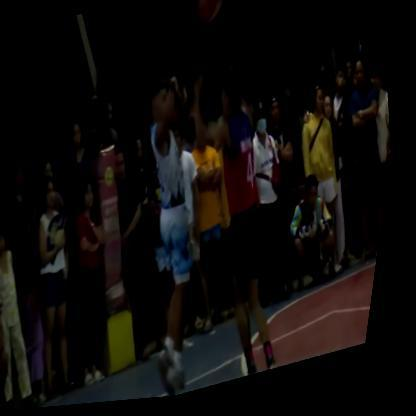basketball: (183, 0, 237, 48)
